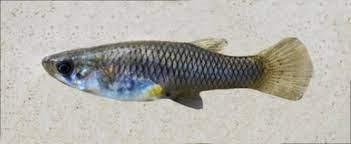Mosquito Fish: (32, 38, 315, 112)
